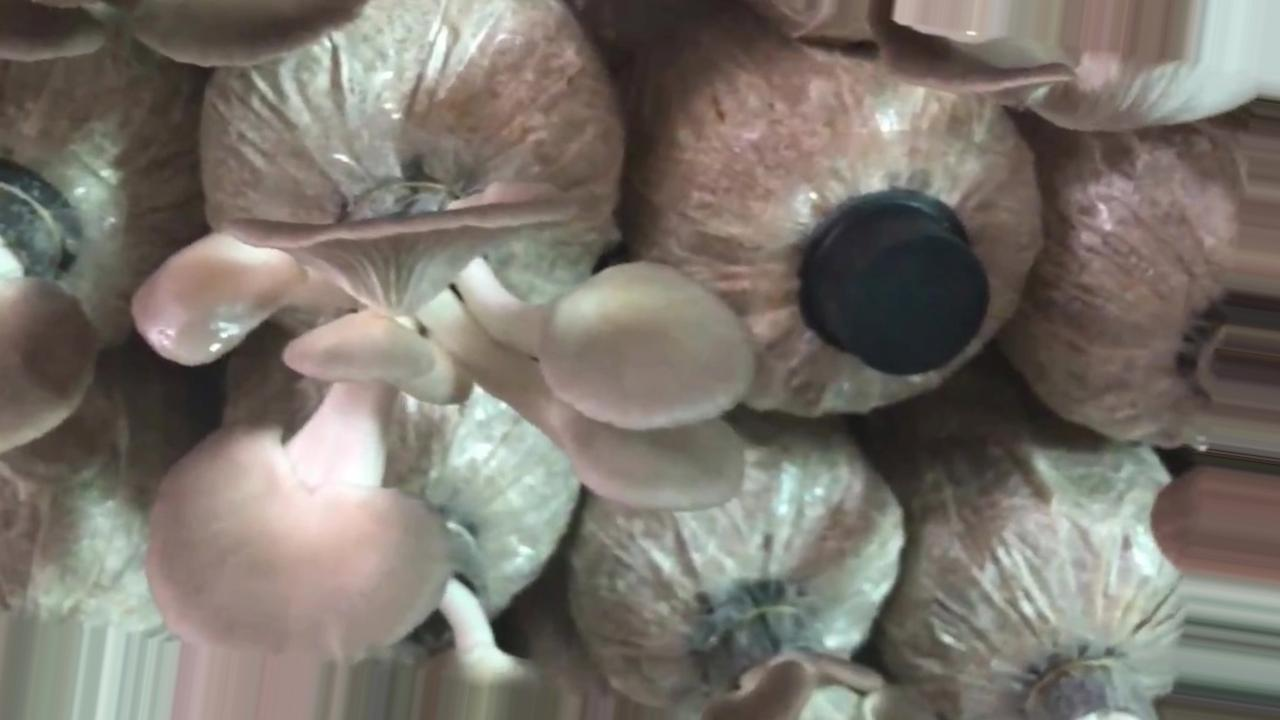nam: (123, 173, 763, 663)
